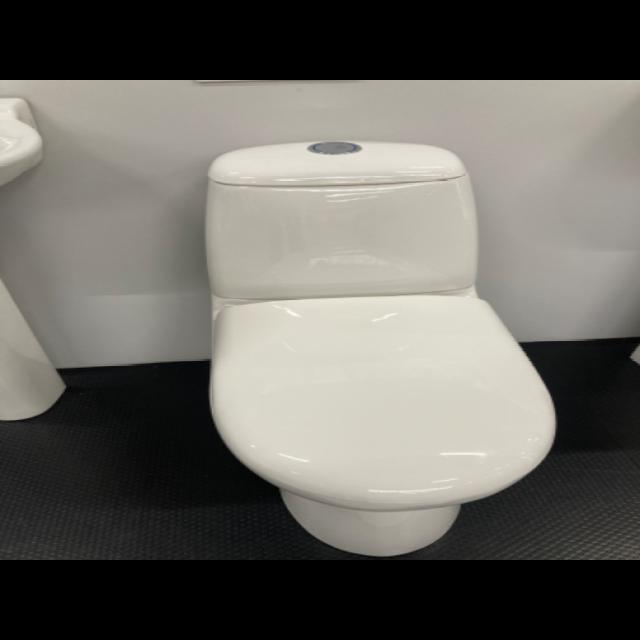toilet: (202, 139, 556, 556)
